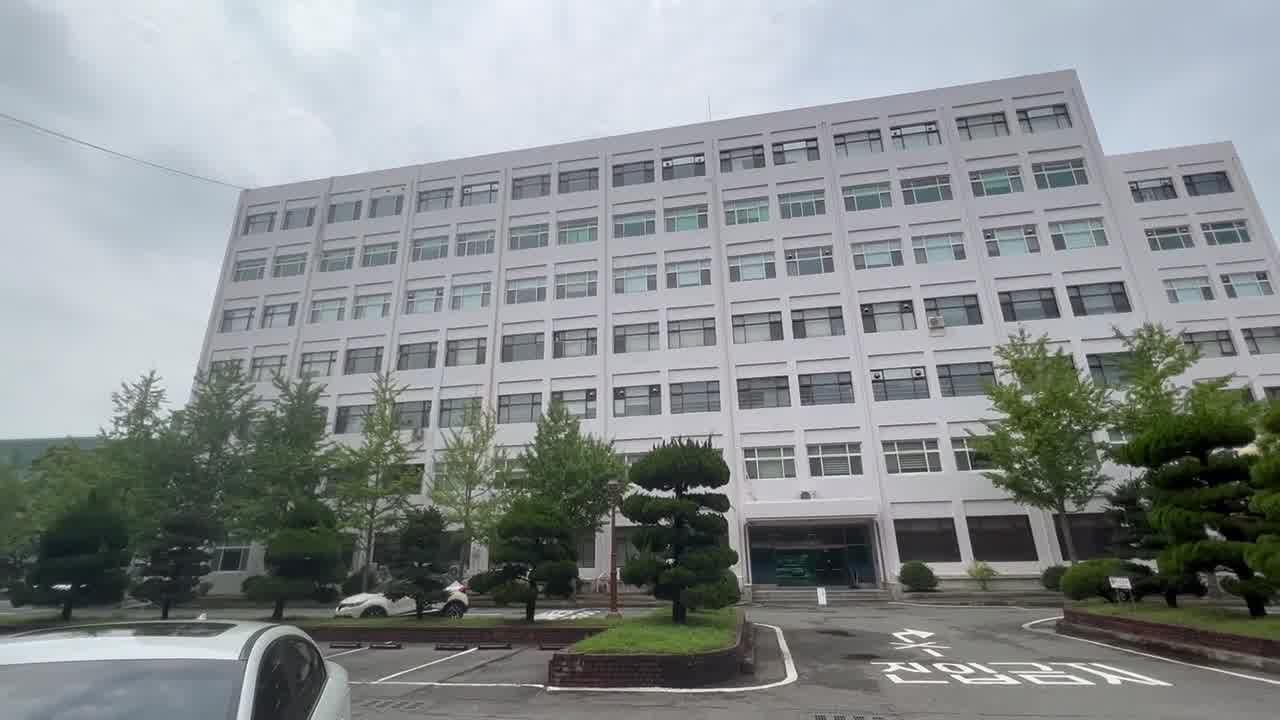building: (218, 84, 1134, 358)
